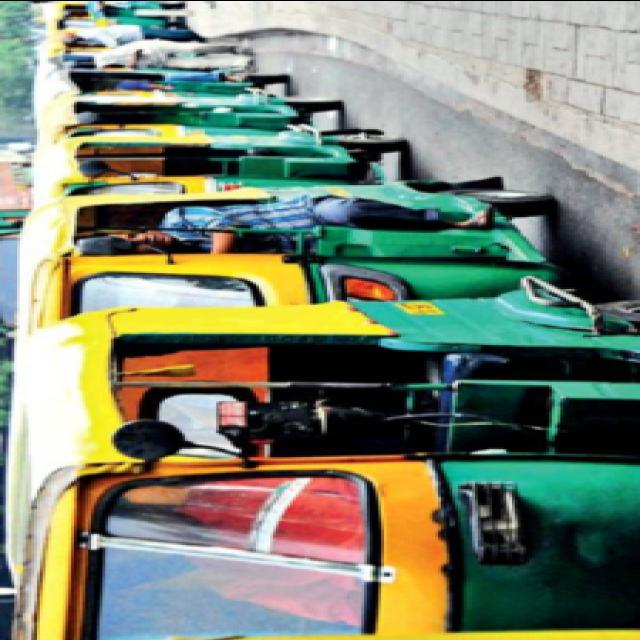Autorickshaw: (5, 292, 640, 639), (18, 172, 572, 346)
